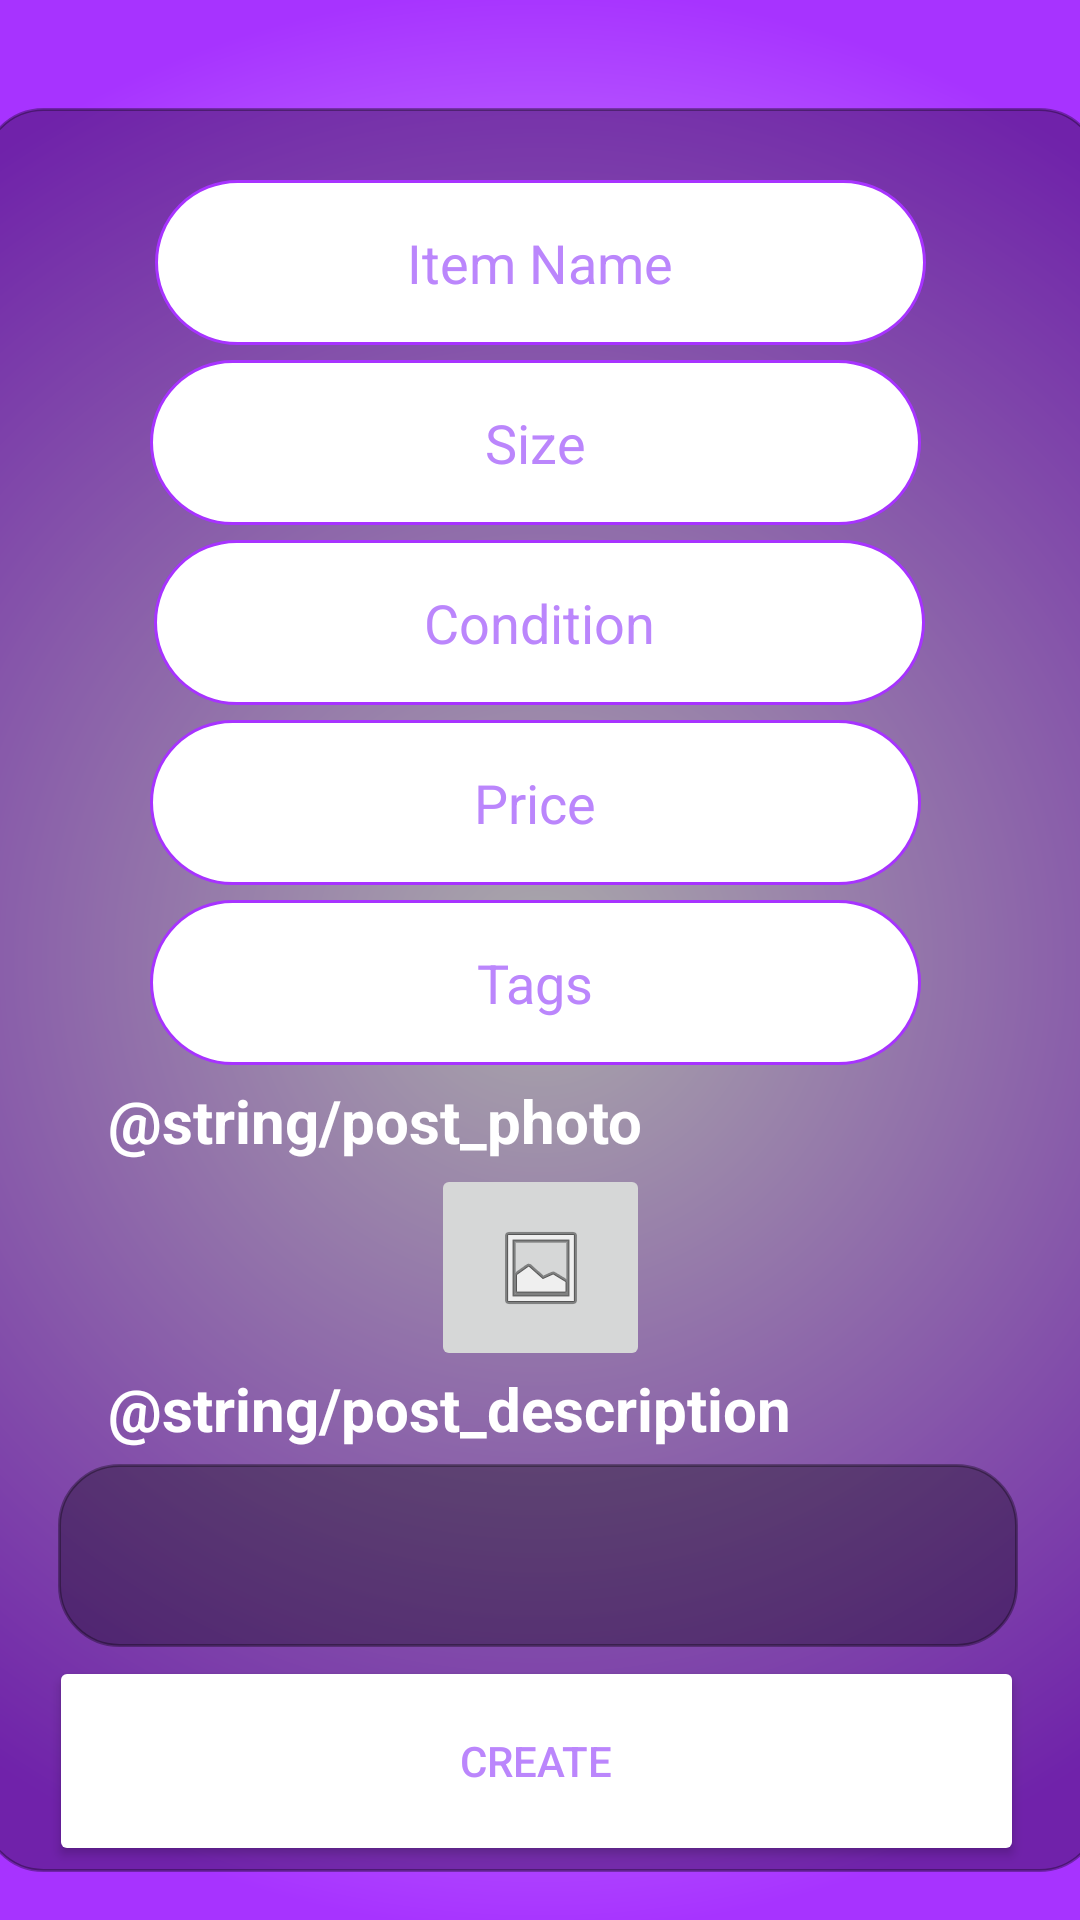

Icon click points for this 1080*1920 phone screenshot, format (x,y):
gallery: (540,1258)
